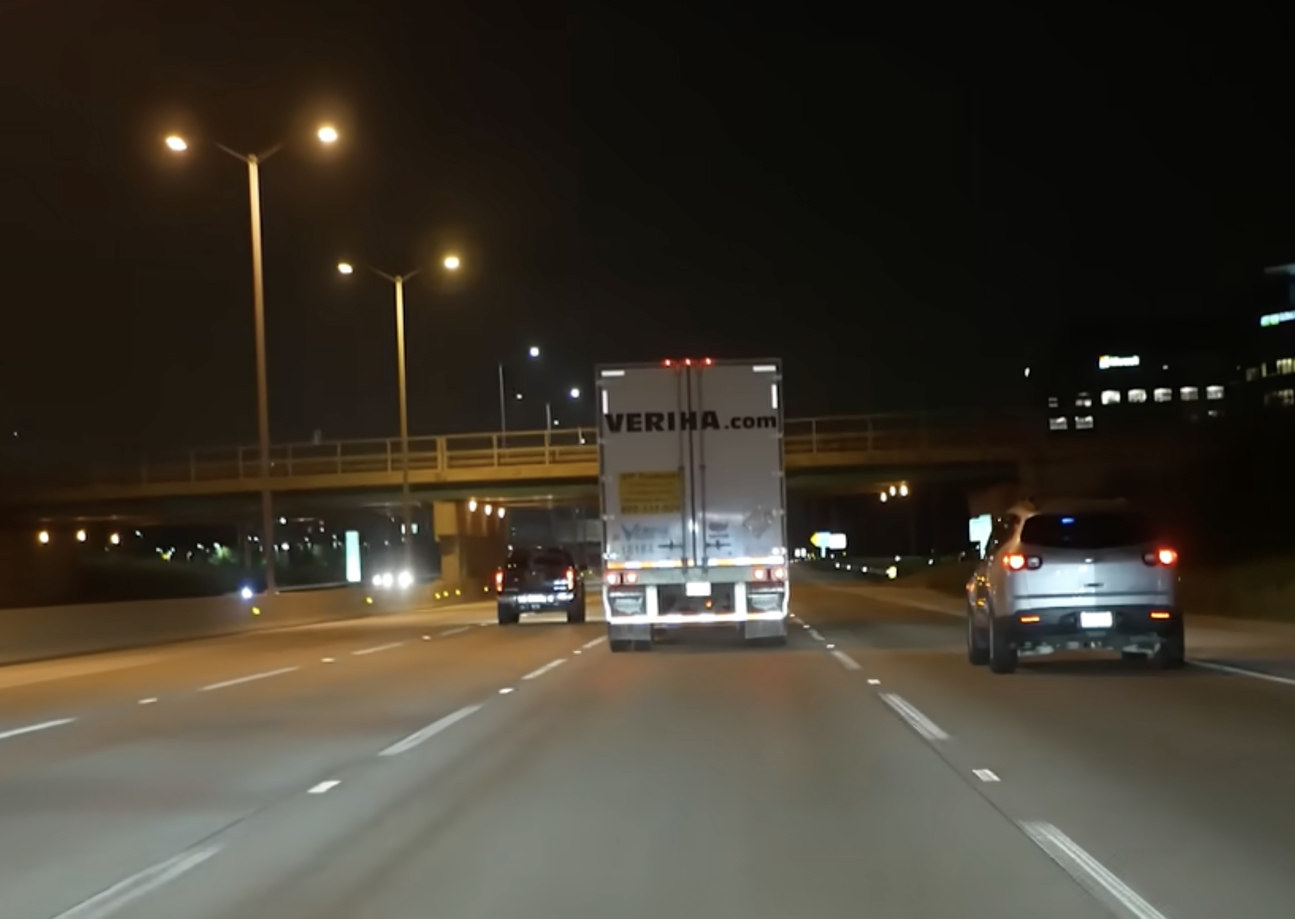HPS: (300, 108, 351, 155), (146, 114, 197, 158), (430, 241, 481, 283), (322, 248, 373, 288)
LED: (521, 330, 551, 363)
